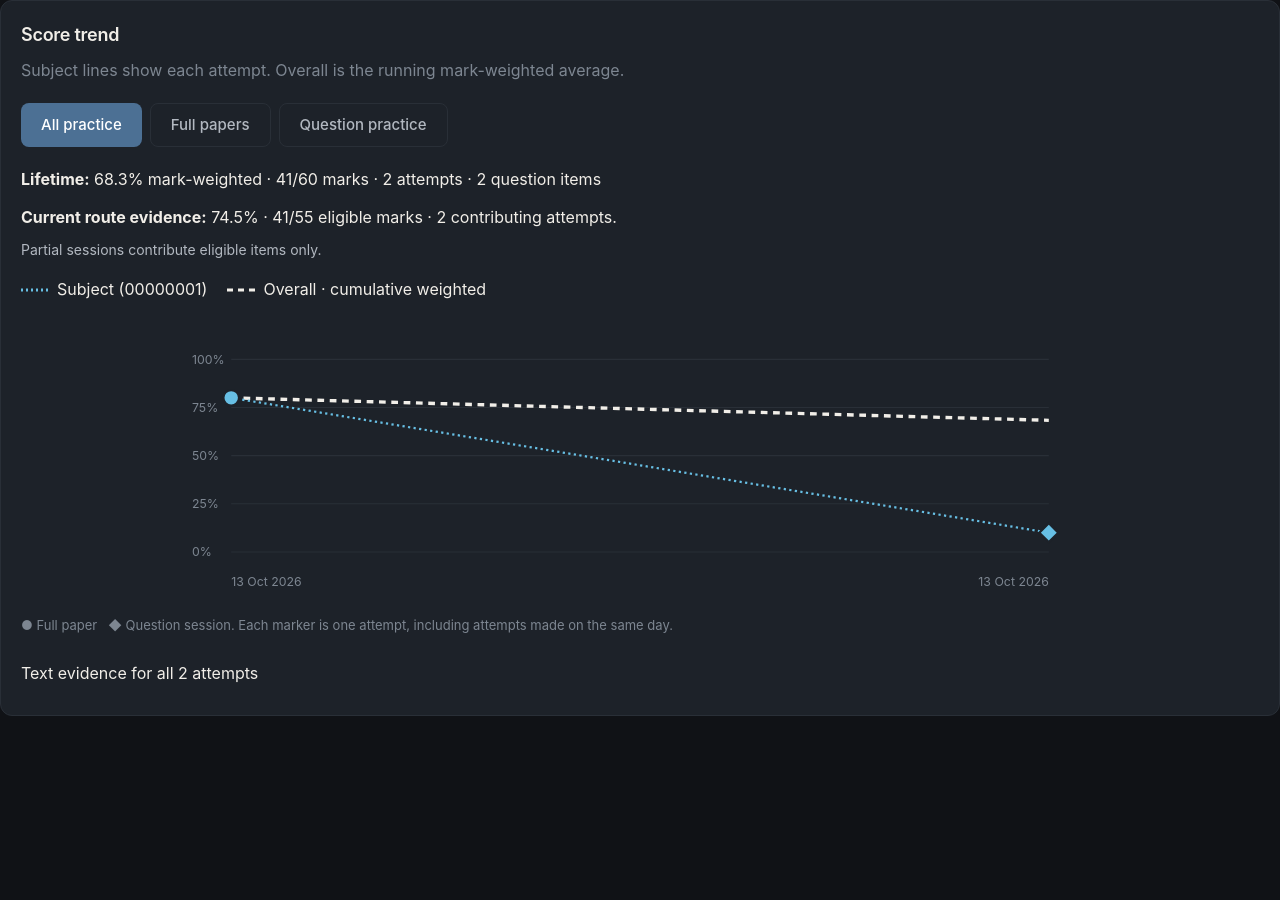
Test case: practice UI evidence › switches all/full-paper/question modes, keeps same-day attempts, and displays mark-weighted volume
Expected: the picture named "2 attempts in date order" is shown, left=21, top=319, right=1259, bottom=599
Expected: the text "41/60 marks · 2 attempts" is shown, left=21, top=169, right=601, bottom=189
What coordinates should you click on to do the following:
click the button "Full papers"
I would click on:
 (210, 125)
Its box is left=150, top=103, right=270, bottom=147.
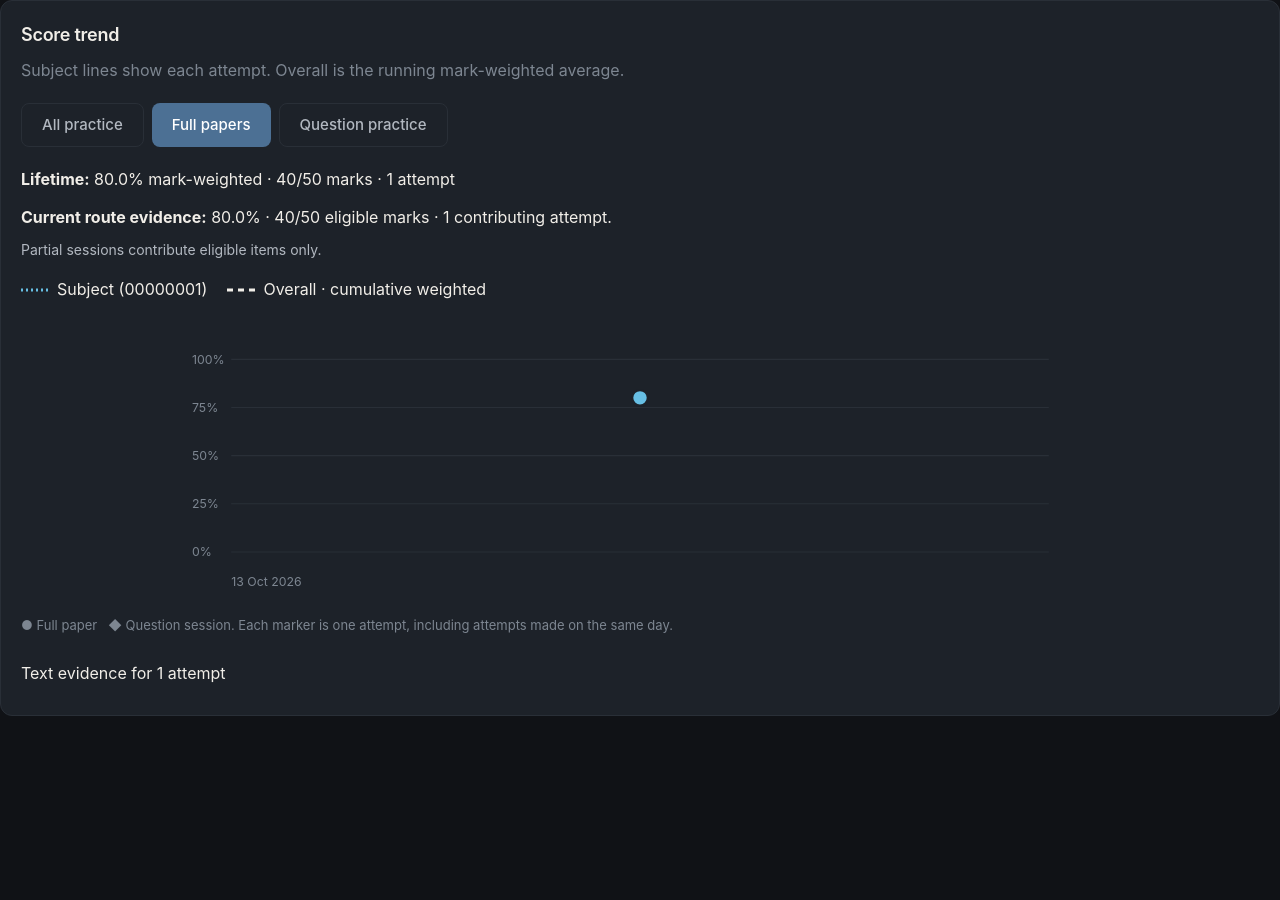
Expected: the text "Lifetime: 80.0% mark-weighted · 40/50 marks · 1 attempt" is shown, left=21, top=169, right=455, bottom=189
What coordinates should you click on to do the following:
click the button "Question practice"
I would click on:
 (363, 125)
Its box is left=279, top=103, right=448, bottom=147.
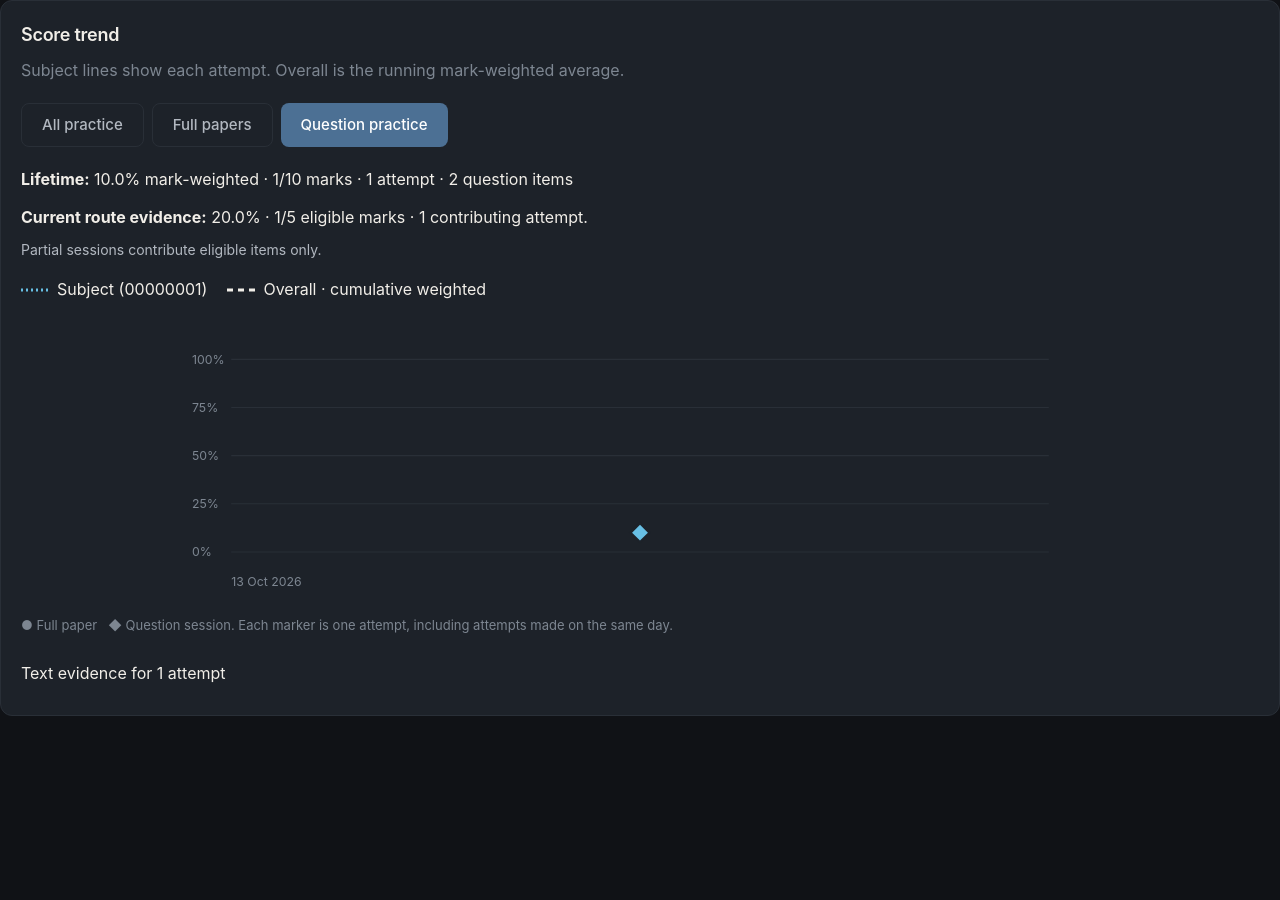
Expected: the text "1/10 marks · 1 attempt · 2 question items" is shown, left=21, top=169, right=573, bottom=189
